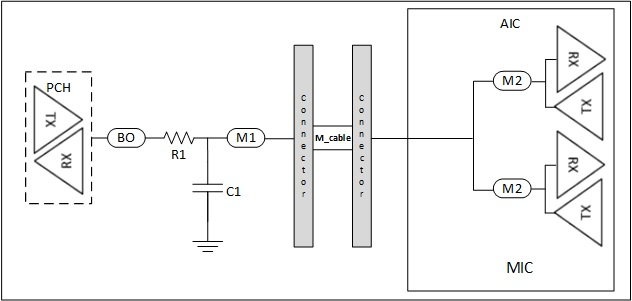capacitor: (186, 178, 225, 195)
dotted_rectangle: (21, 64, 96, 213)
ground: (183, 236, 230, 257)
oval: (103, 122, 149, 150), (223, 124, 269, 152), (489, 67, 535, 95), (485, 174, 531, 202)
rectangle: (400, 3, 622, 295), (288, 41, 318, 255), (344, 38, 374, 252)
resistor: (162, 128, 199, 148)
triangle: (29, 84, 85, 155), (31, 124, 87, 195), (550, 23, 606, 94), (553, 71, 609, 142), (551, 129, 607, 200), (551, 176, 607, 247)
